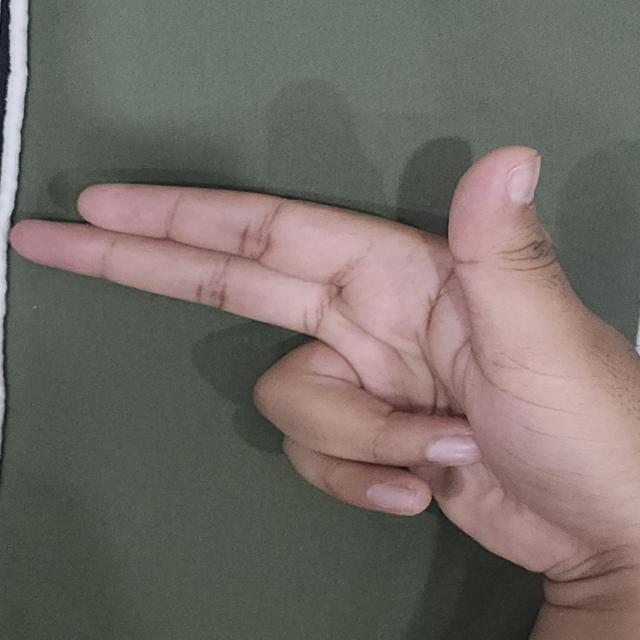ج: (5, 117, 640, 610)
